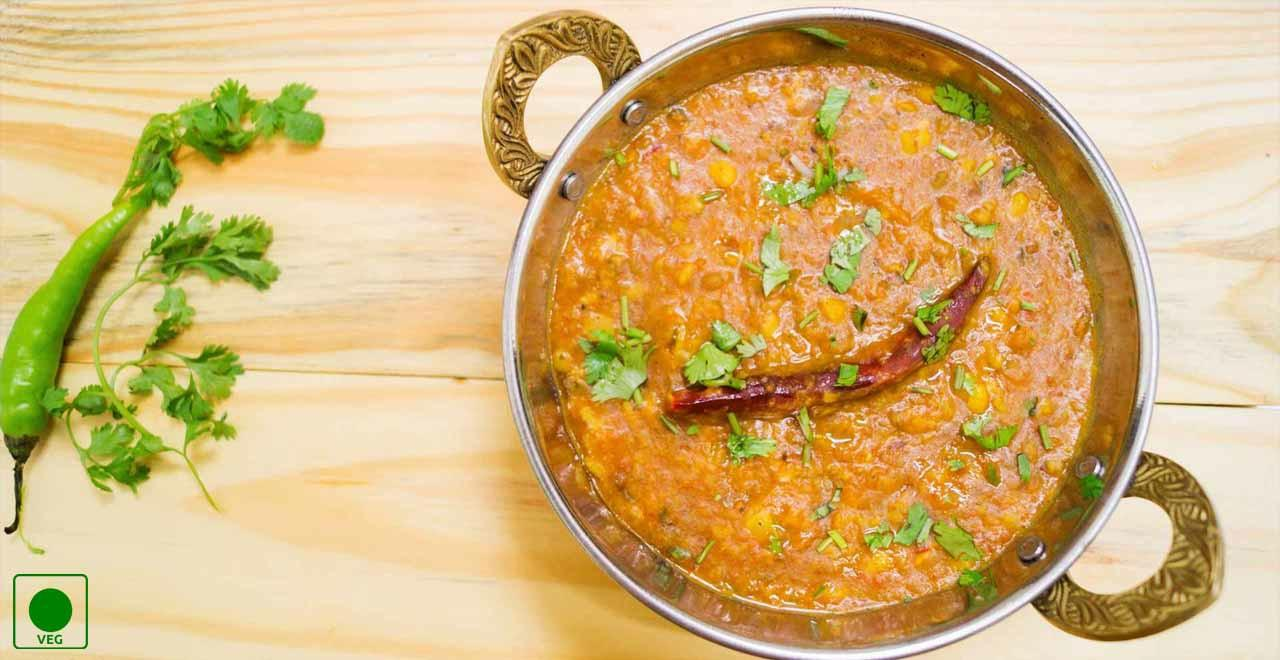Dal: (552, 66, 1094, 616)
